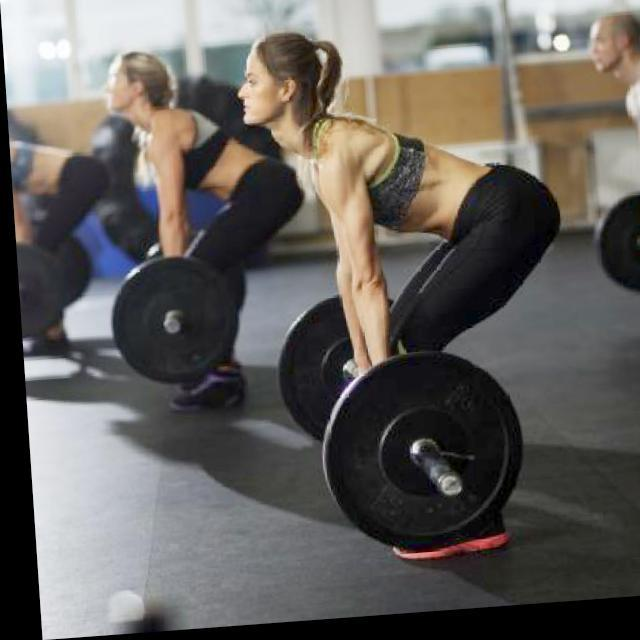barbell: (308, 349, 525, 562), (100, 251, 243, 397)
